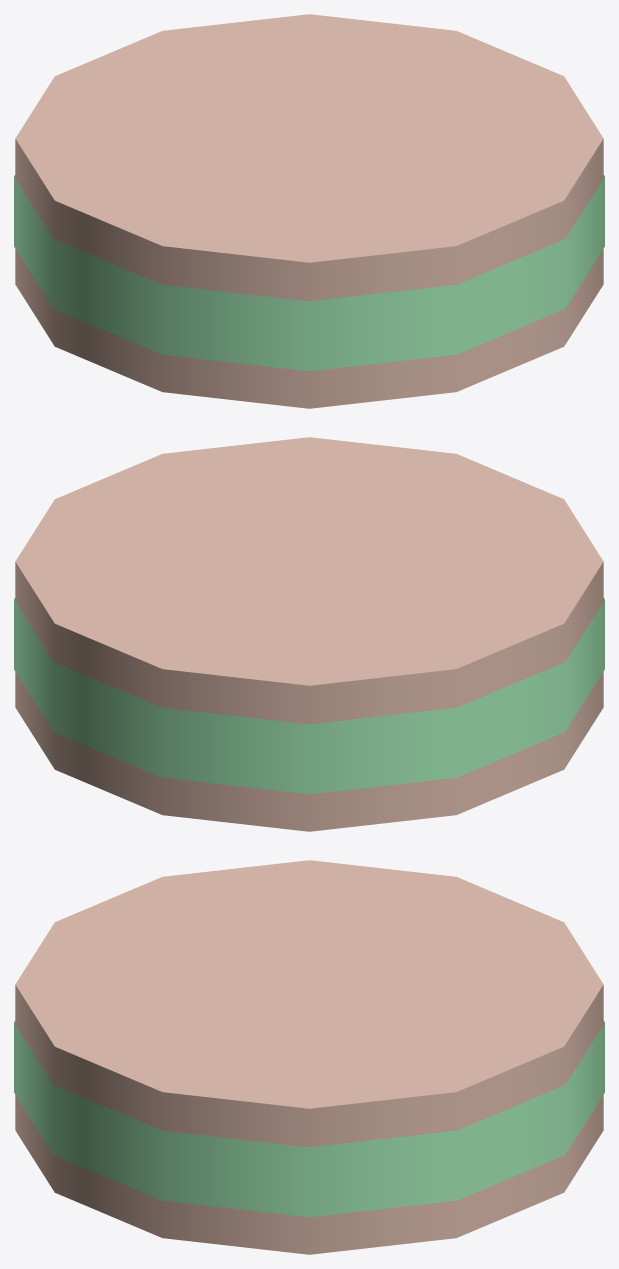
3 renders of one model, top to bottom at view 1: azimuth 30°, elevation 25°; view 2: azimuth 150°, elevation 25°; view 3: azimuth 270°, elevation 25°, orthographic.
Parts seen in each view (by area): view 1: Object47; view 2: Object47; view 3: Object47.
Part boxes in pixels (x1,y1,x2,y2): Object47: [14, 14, 604, 408]; Object47: [14, 437, 604, 831]; Object47: [14, 860, 604, 1254].
Size of the model in its own units: 24972 by 6809 by 24972.
